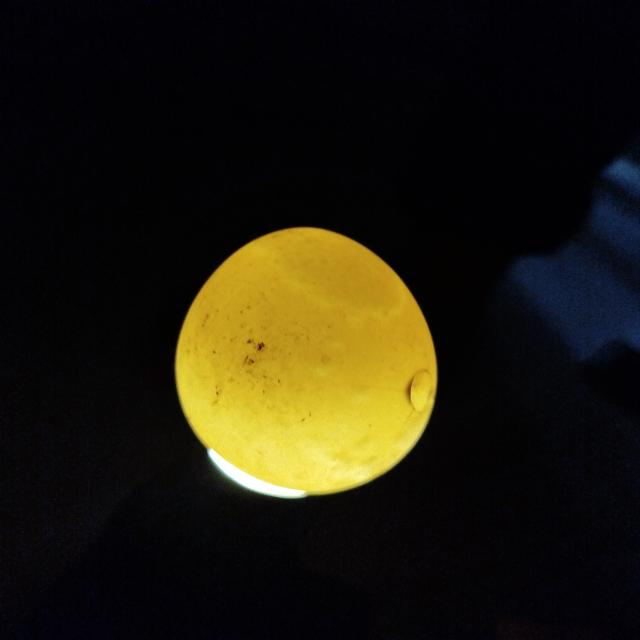Camara de Ar: (251, 227, 403, 323)
Rachadura: (402, 370, 432, 429)
